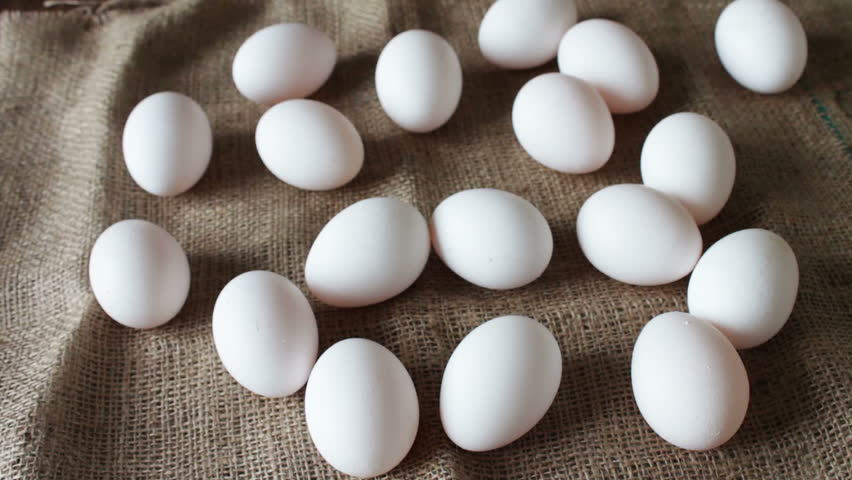Egg: (298, 193, 437, 312)
